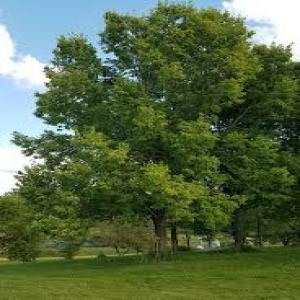Tree: (9, 0, 299, 256)
